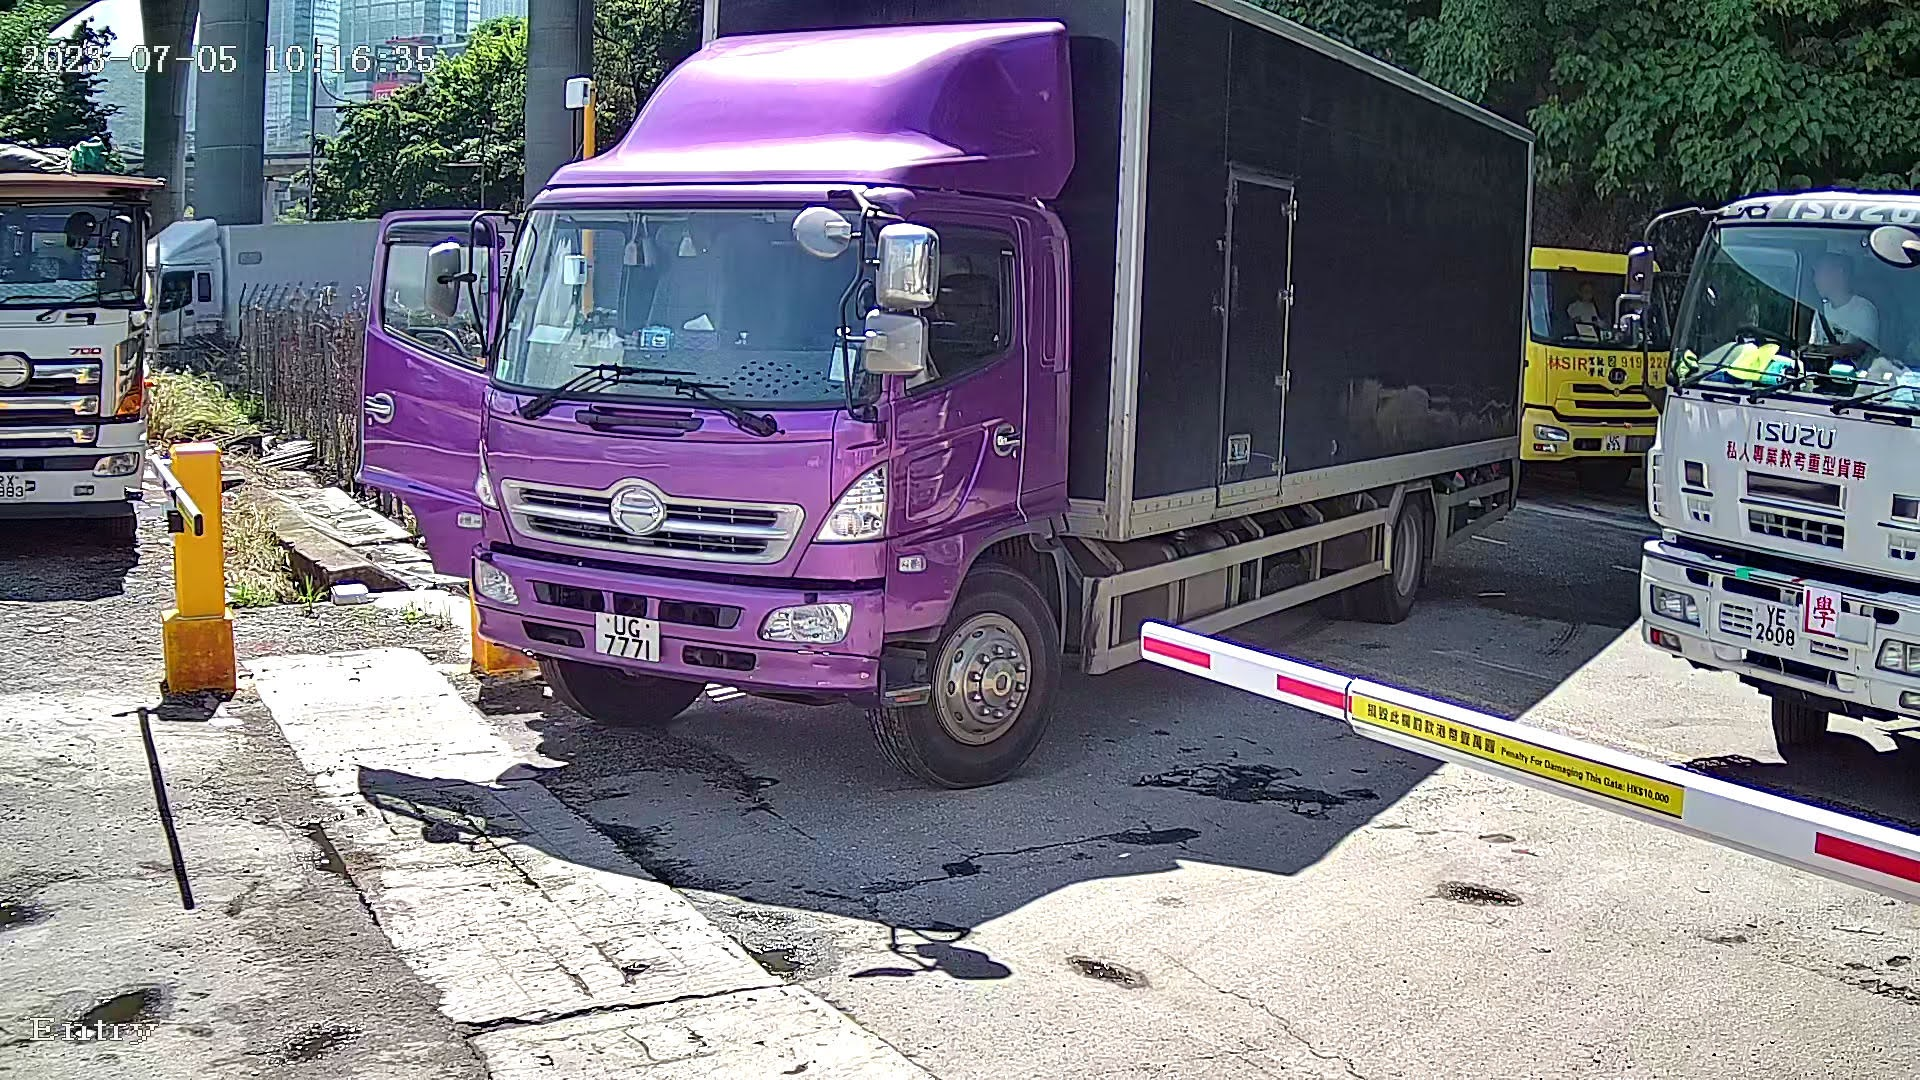truck: (375, 1, 1557, 796)
